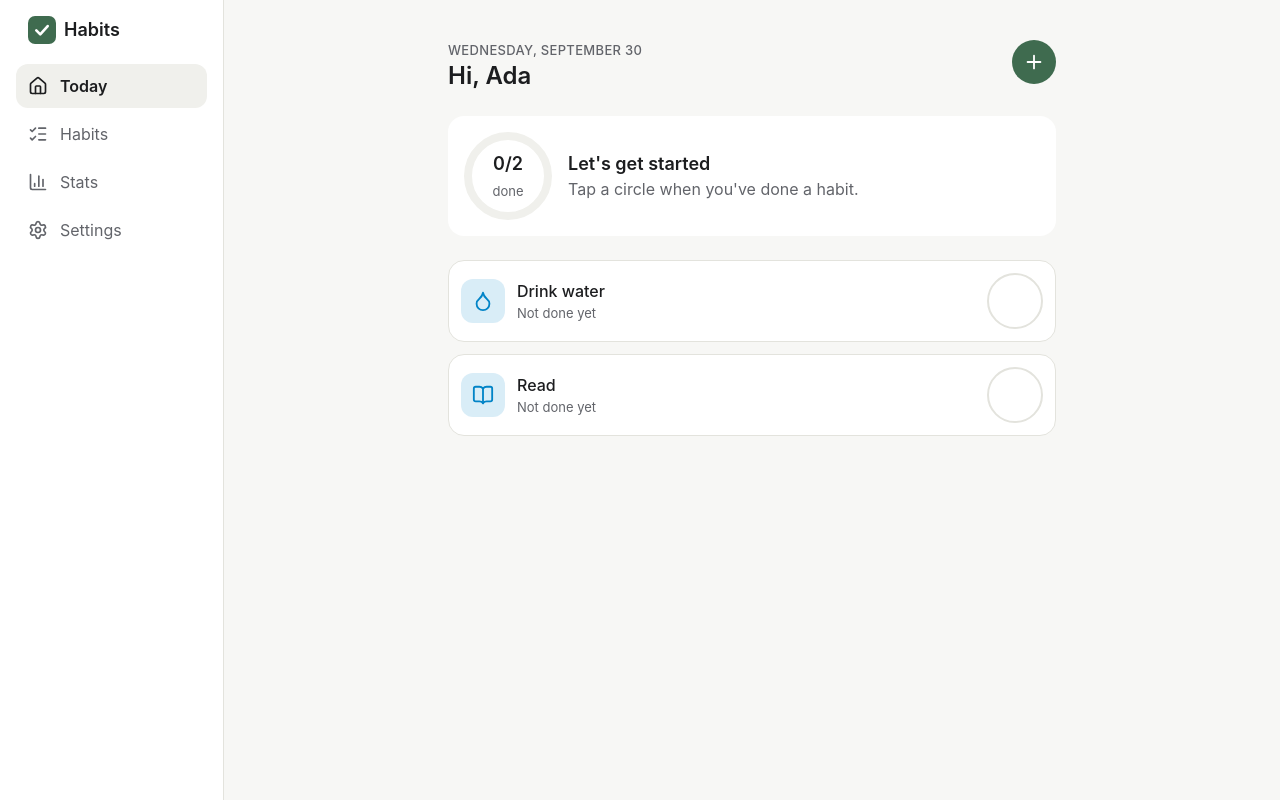
Test: checking a habit off › puts it back when the connection drops, even though it can't refetch
This screenshot has width=1280, height=800.
What coordinates should you click on to do the following:
click the button named "Mark Drink water done"
I would click on:
 (1015, 301)
Its box is left=987, top=273, right=1043, bottom=329.
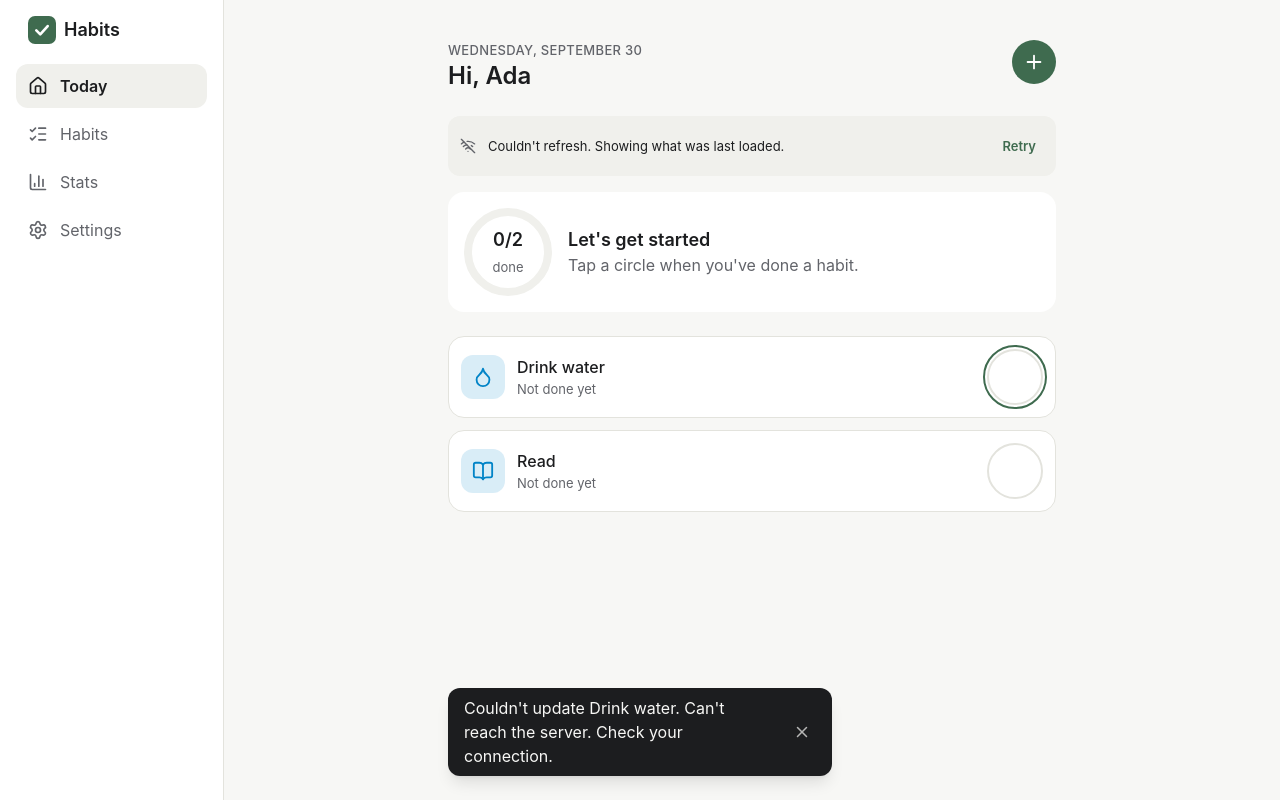
Expected: the button named "Mark Read done" is shown, left=987, top=443, right=1043, bottom=499
Expected: the text "Couldn't update Drink water. Can't reach the server" is shown, left=464, top=698, right=724, bottom=766
Expected: the text "Couldn't refresh. Showing what was last loaded." is shown, left=488, top=138, right=784, bottom=154
